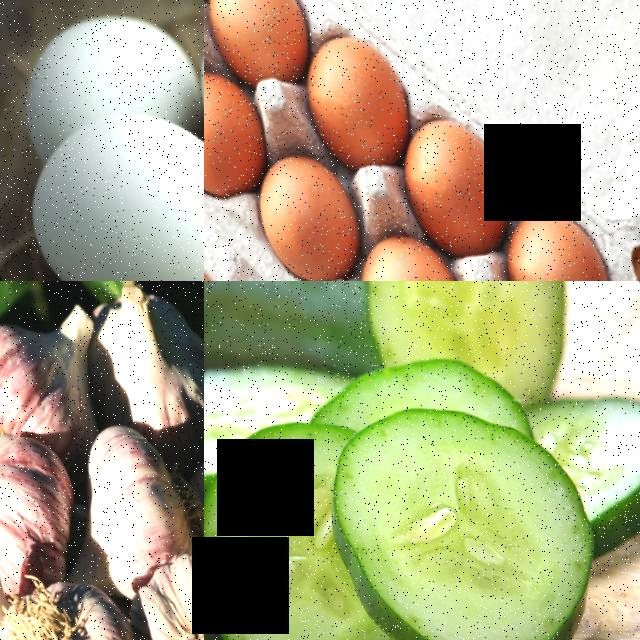cucumber: (300, 377, 619, 640), (204, 281, 578, 394), (204, 417, 390, 640)
egg_: (0, 86, 204, 281), (0, 0, 204, 139), (381, 107, 513, 263), (284, 24, 412, 171), (237, 141, 363, 281), (481, 198, 620, 281), (204, 0, 312, 94), (204, 55, 266, 195), (332, 226, 470, 281)
garlic: (59, 408, 201, 586), (93, 281, 204, 465), (0, 419, 93, 599), (0, 298, 113, 440), (0, 570, 162, 640), (121, 548, 204, 640)
